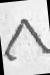D54: (1, 0, 50, 74)
